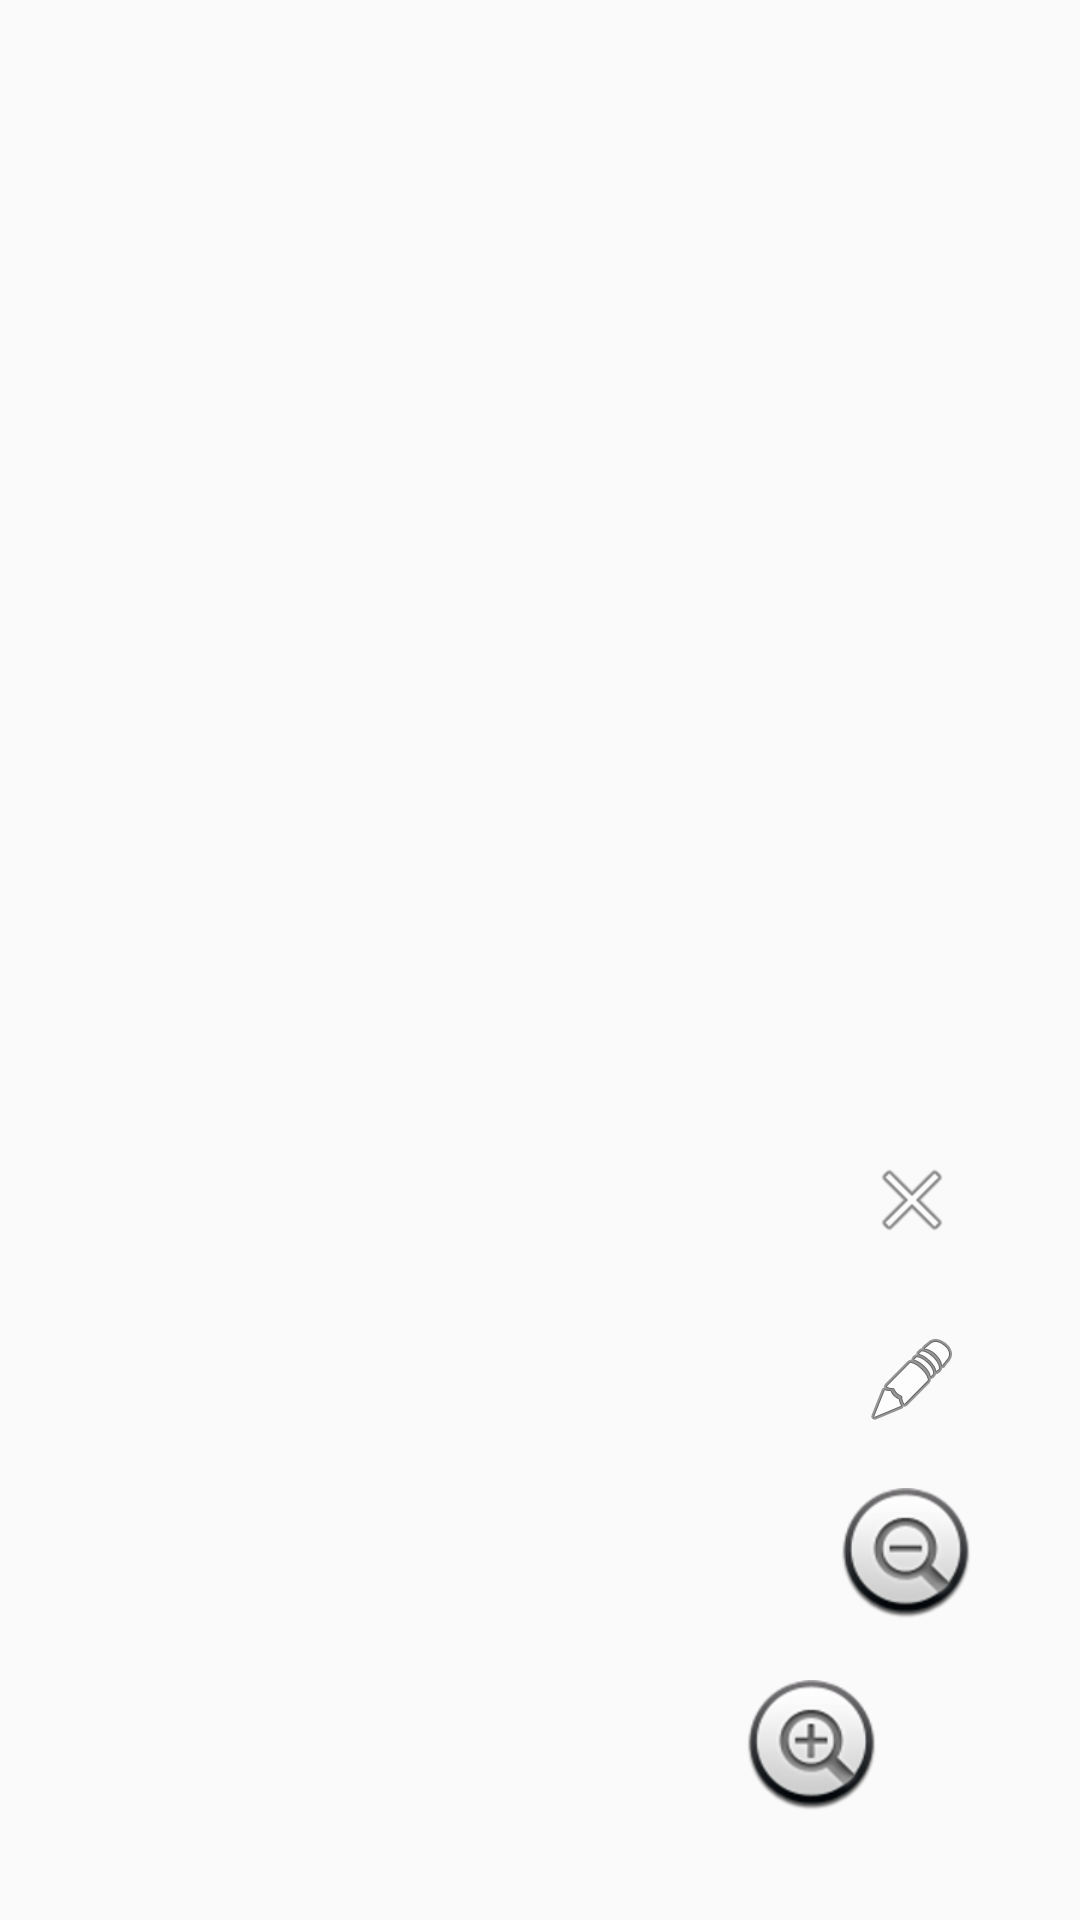

Named icons in this screenshot (1080 × 1920) and their bounding boxes, (x1, y1, x2, y2):
close clear cancel: (882, 1170, 942, 1230)
edit: (871, 1339, 952, 1420)
minus: (842, 1488, 969, 1617)
plus: (748, 1680, 875, 1809)
